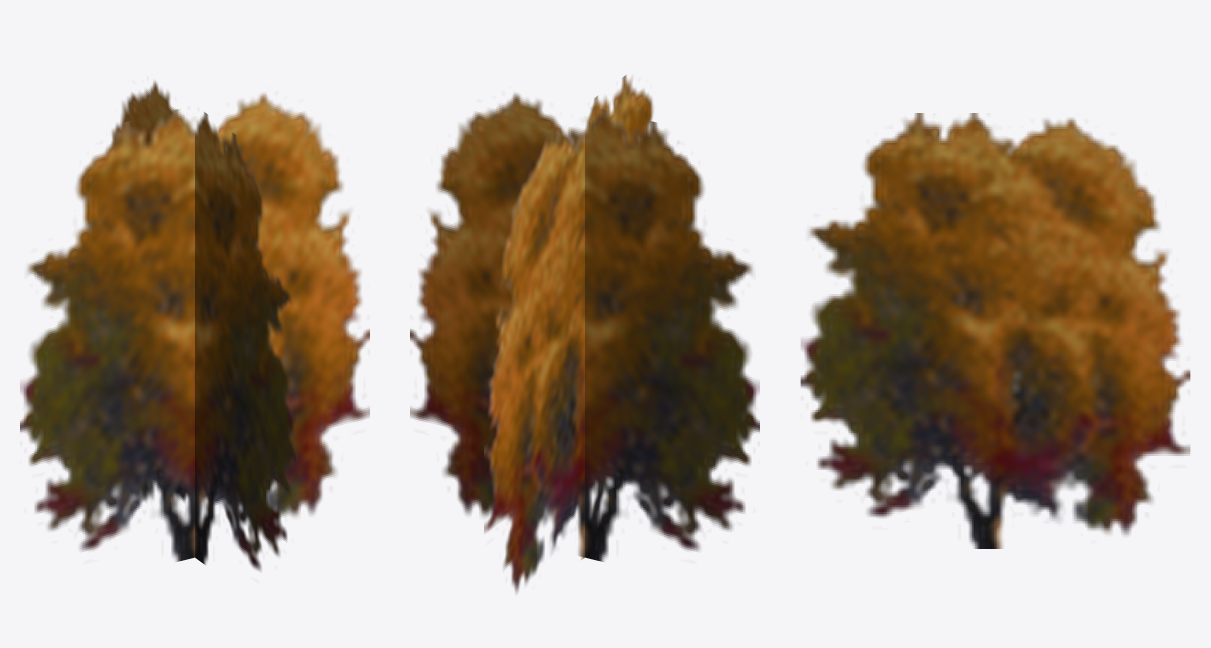
The model's file is tree3.glb.
3 views of the same model, side by side, from view 1: azimuth 30°, elevation 25°; view 2: azimuth 150°, elevation 25°; view 3: azimuth 270°, elevation 25° (orthographic). The views are drawn at different scales.
Parts seen in each view (by area): view 1: tree3; view 2: tree3; view 3: tree3.
Part boxes in pixels (bbox=[...]): tree3: bbox=[20, 81, 369, 571]; tree3: bbox=[410, 75, 759, 592]; tree3: bbox=[800, 113, 1190, 548].
Bounding box in the file's own units: 17 × 21 × 17.
1 material, 1 textured.
